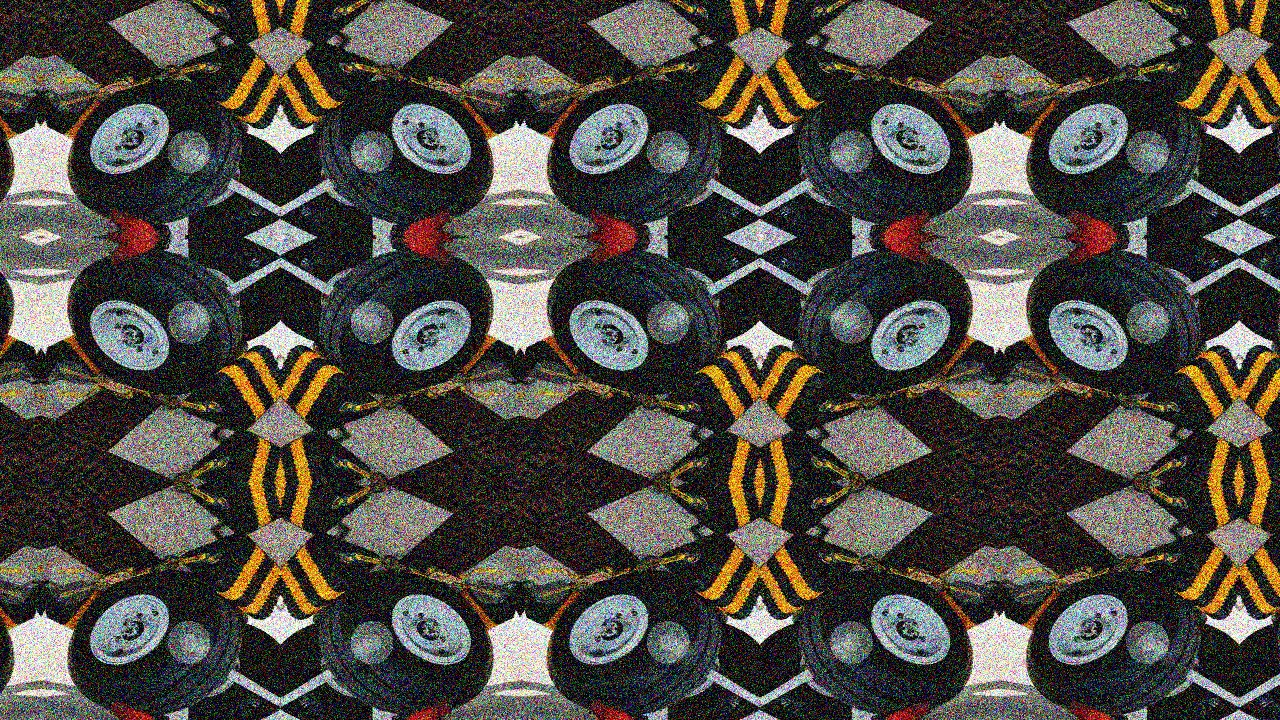chock: (172, 34, 280, 132), (280, 34, 388, 132), (652, 34, 760, 132), (760, 34, 868, 132), (1132, 34, 1240, 132), (172, 342, 280, 440), (280, 342, 388, 440), (652, 342, 760, 440), (760, 342, 868, 440), (1132, 342, 1240, 440), (172, 526, 280, 624), (280, 526, 388, 624), (652, 526, 760, 624), (760, 526, 868, 624), (1132, 526, 1240, 624), (185, 423, 280, 483), (280, 423, 375, 483), (665, 423, 760, 483), (760, 423, 855, 483), (1145, 423, 1240, 483), (185, 483, 280, 542), (280, 483, 375, 542), (665, 483, 760, 542), (760, 483, 855, 542), (1145, 483, 1240, 542), (185, 0, 280, 51), (280, 0, 375, 51), (665, 0, 760, 51), (760, 0, 855, 51), (1145, 0, 1240, 51), (42, 84, 116, 146), (444, 84, 518, 146), (522, 84, 596, 146), (924, 84, 998, 146), (1002, 84, 1076, 146), (42, 328, 116, 390), (444, 328, 518, 390), (522, 328, 596, 390), (924, 328, 998, 390), (1002, 328, 1076, 390), (42, 576, 116, 637), (444, 576, 518, 637), (522, 576, 596, 637), (924, 576, 998, 637), (1002, 576, 1076, 637), (1240, 34, 1280, 132), (1240, 342, 1280, 440), (1240, 526, 1280, 624), (1240, 423, 1280, 483), (1240, 483, 1280, 542), (0, 84, 38, 146), (0, 328, 38, 390), (0, 576, 38, 637), (1240, 0, 1280, 51)
wheel: (58, 68, 246, 237), (314, 68, 502, 237), (538, 68, 726, 237), (794, 68, 982, 237), (1018, 68, 1206, 237), (58, 237, 246, 406), (314, 237, 502, 406), (538, 237, 726, 406), (794, 237, 982, 406), (1018, 237, 1206, 406), (58, 559, 246, 720), (314, 559, 502, 720), (538, 559, 726, 720), (794, 559, 982, 720), (1018, 559, 1206, 720), (186, 128, 280, 237), (280, 128, 374, 237), (666, 128, 760, 237), (760, 128, 854, 237), (1146, 128, 1240, 237), (186, 237, 280, 346), (280, 237, 374, 346), (666, 237, 760, 346), (760, 237, 854, 346), (1146, 237, 1240, 346), (186, 620, 280, 720), (280, 620, 374, 720), (666, 620, 760, 720), (760, 620, 854, 720), (1146, 620, 1240, 720), (1240, 128, 1280, 237), (1240, 237, 1280, 346), (1240, 620, 1280, 720), (0, 68, 22, 237), (0, 237, 22, 406), (0, 559, 22, 720)
